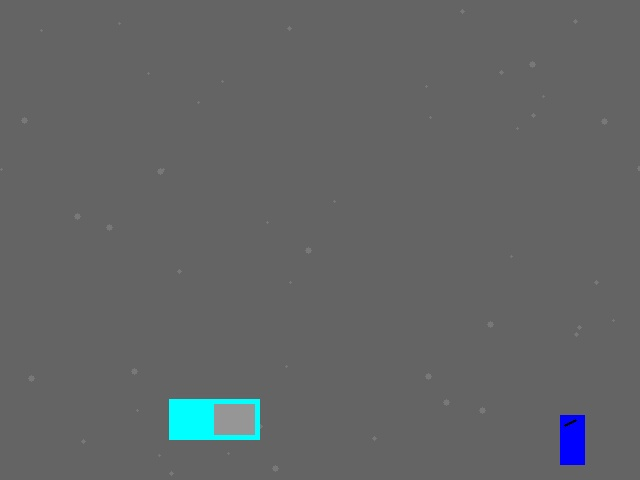motorcycle: (560, 415, 584, 464)
truck: (169, 399, 259, 439)
